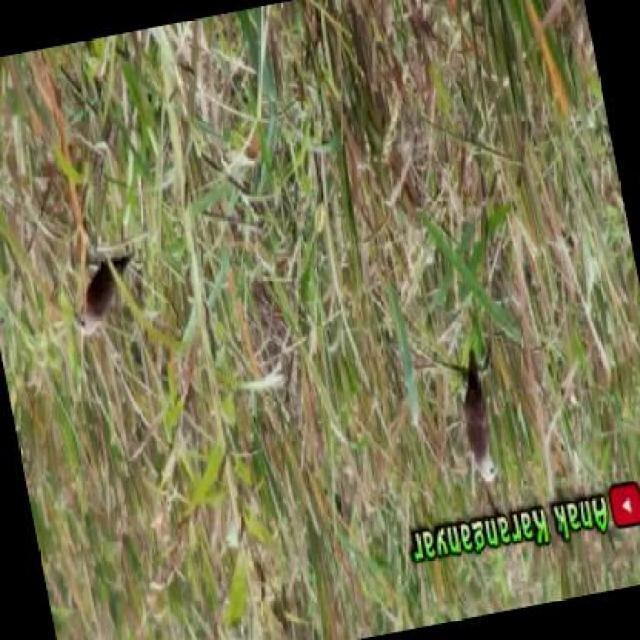Bird: (448, 339, 512, 486), (69, 247, 147, 346)
